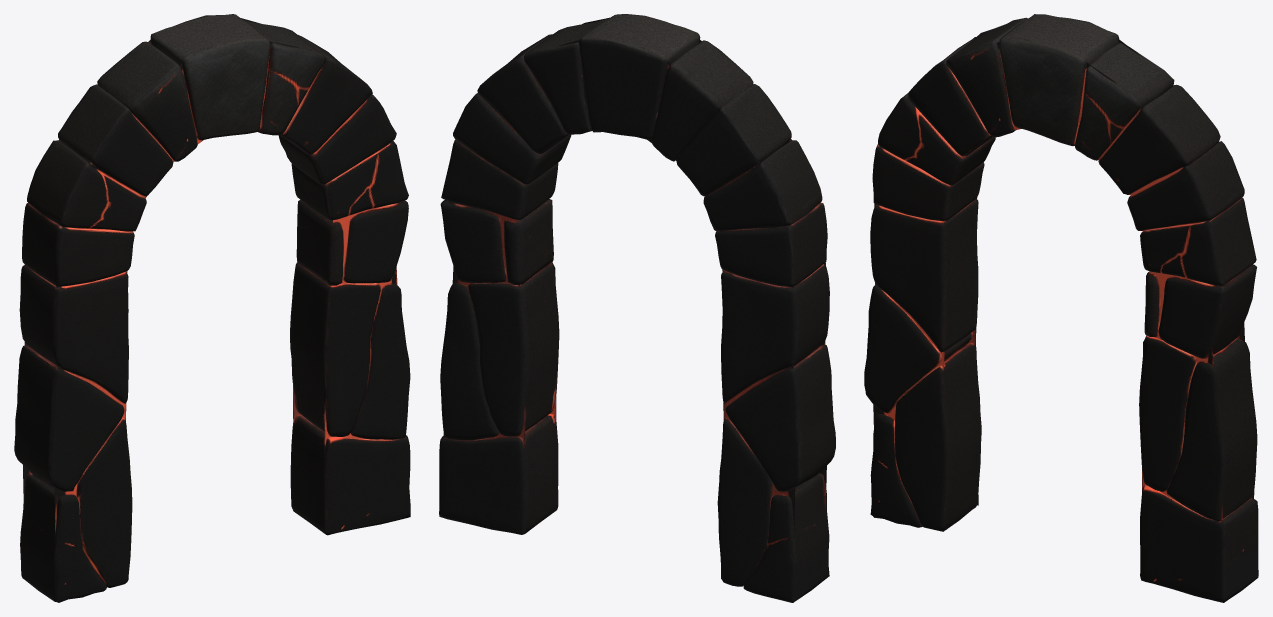
The model's file is Meshy_AI_doorway_to_hell_0904015414_texture.glb.
3 renders of one model, left to right at view 1: azimuth 30°, elevation 25°; view 2: azimuth 150°, elevation 25°; view 3: azimuth 330°, elevation 25°, orthographic.
Visible parts, largest first — view 1: mesh_node; view 2: mesh_node; view 3: mesh_node.
Part boxes in pixels (x1,y1,x2,y2): mesh_node: [14, 14, 410, 602]; mesh_node: [439, 14, 835, 602]; mesh_node: [864, 14, 1258, 602].
Size of the model in its own units: 0.7344 by 1 by 0.1318.
Materials: 1 (1 with a texture image).
